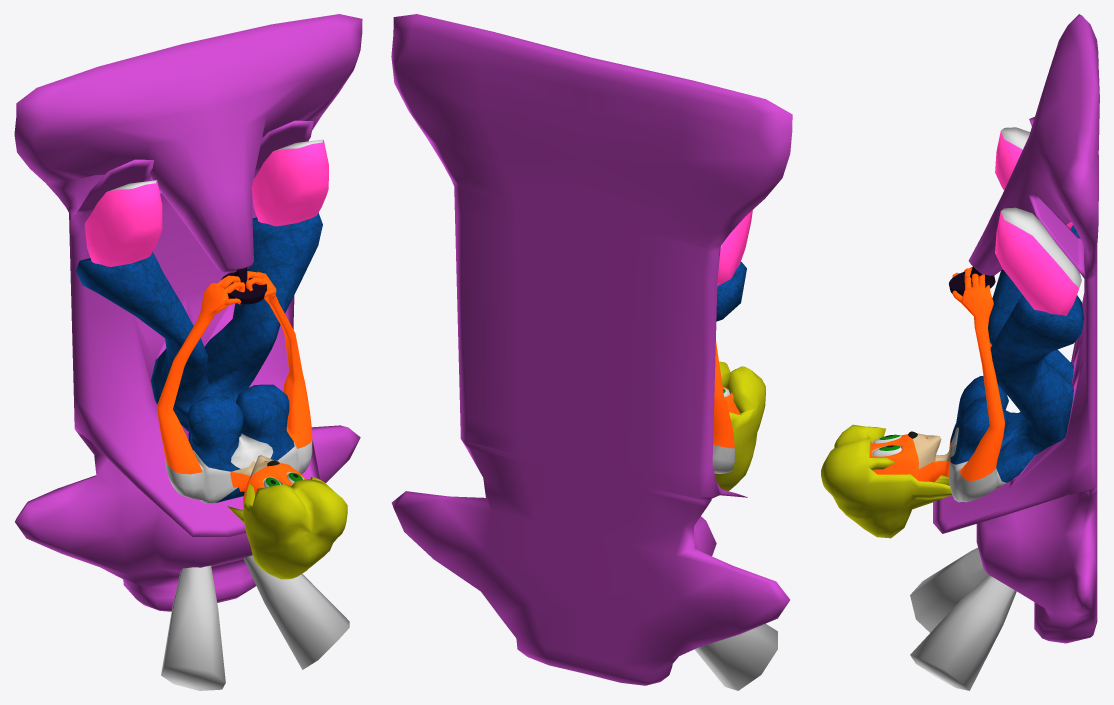
Rendered from coco.fbx.
The picture shows the model from 3 angles, left to right: view 1: azimuth 30°, elevation 25°; view 2: azimuth 150°, elevation 25°; view 3: azimuth 270°, elevation 25°; orthographic projection. The views are drawn at different scales.
Parts seen in each view (by area): view 1: Kart_coco; view 2: Kart_coco; view 3: Kart_coco.
Boxes of the visible parts, x1,y1,x2,y2 form: Kart_coco: (14, 14, 362, 690); Kart_coco: (391, 14, 792, 690); Kart_coco: (821, 14, 1099, 690).
Bounding box in the file's own units: 3.37 × 5.43 × 2.38.
